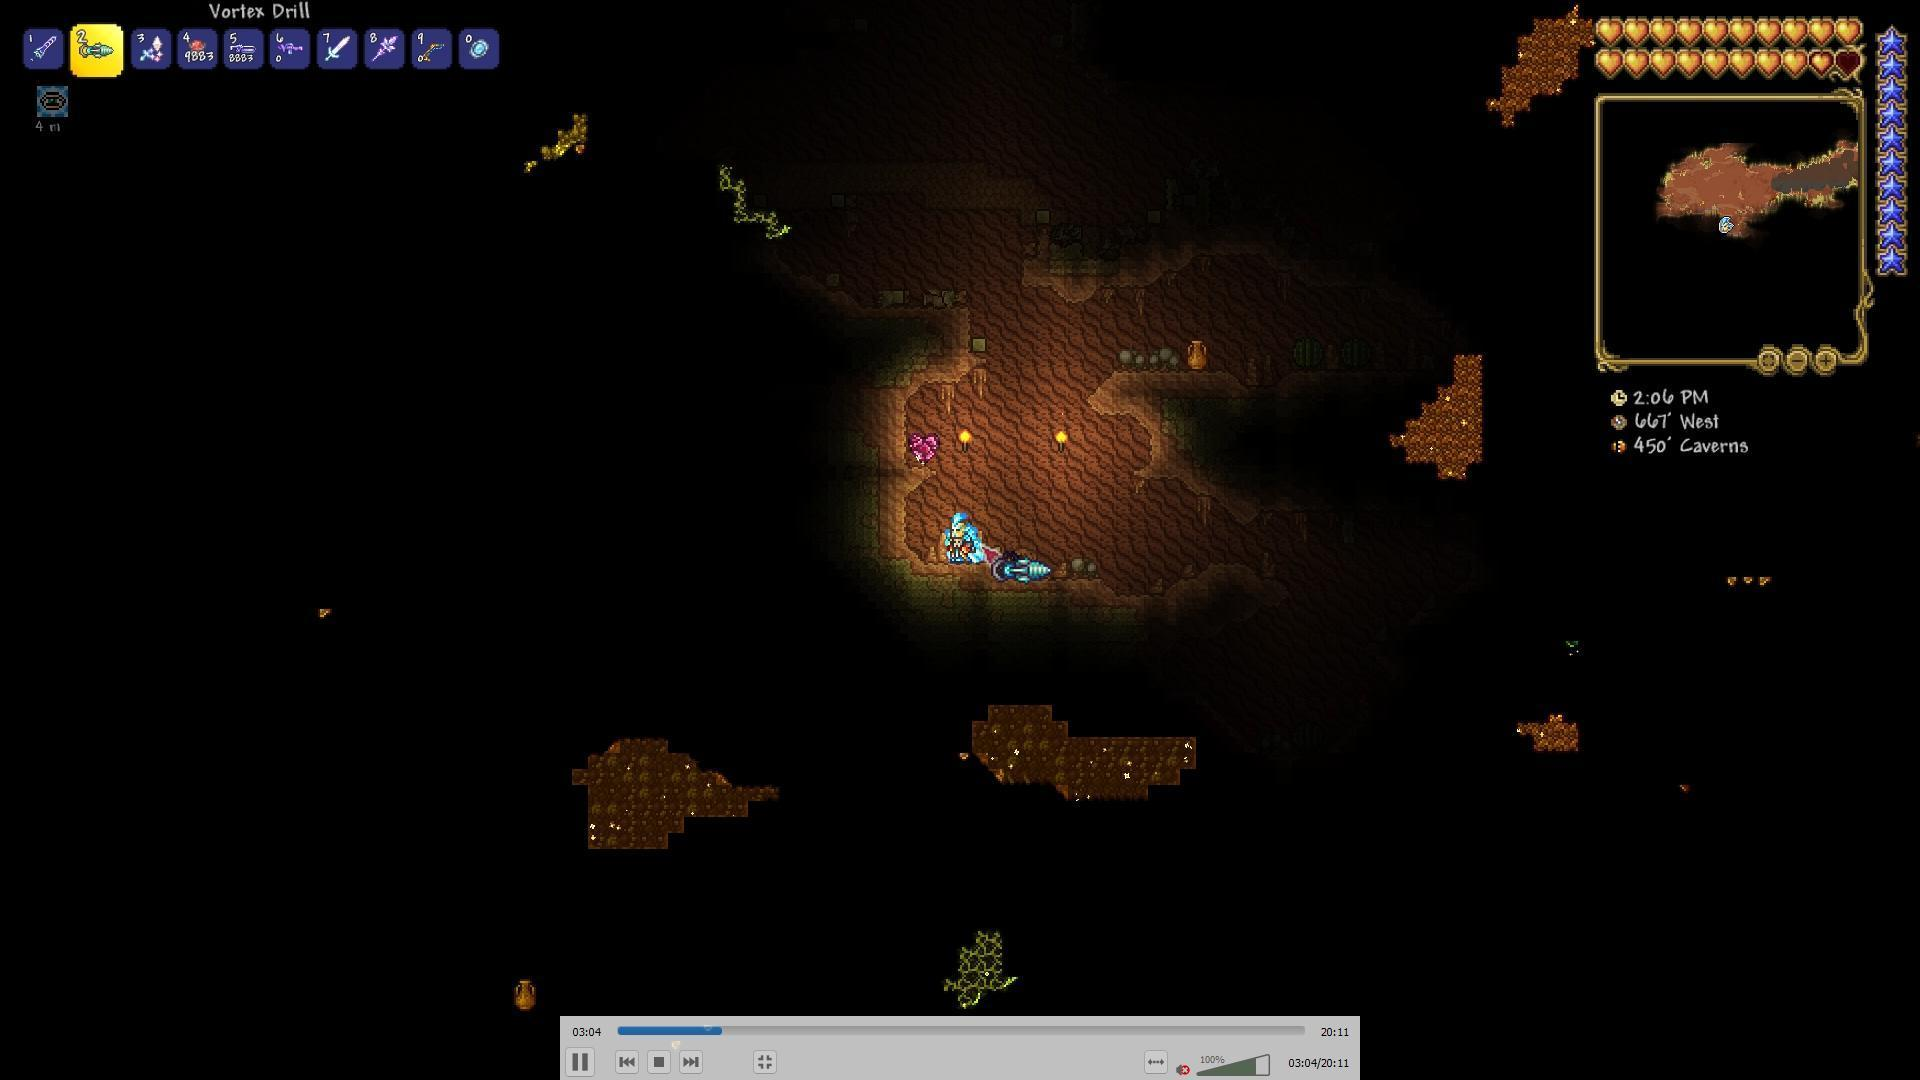lifeC: (905, 430, 945, 468)
pot: (509, 971, 538, 1015), (1182, 330, 1212, 371)
